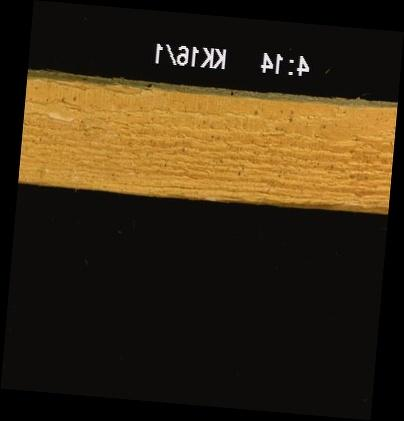wave: (256, 198, 387, 210)
